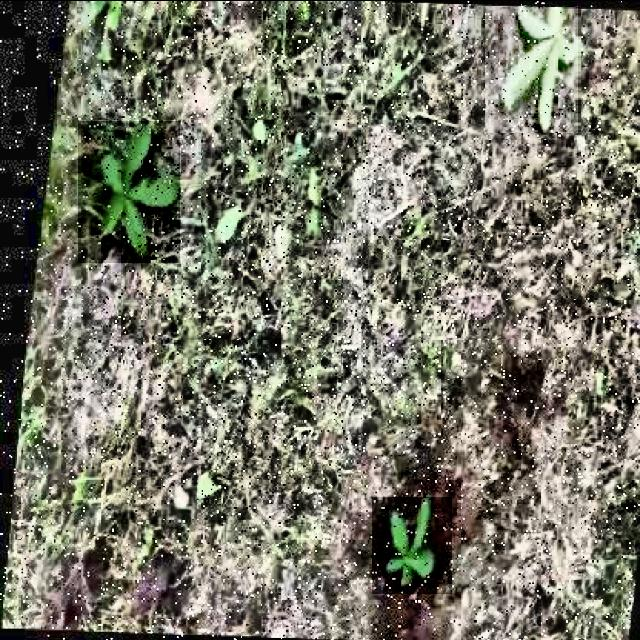Weeds: (78, 120, 180, 262), (486, 5, 580, 132), (372, 496, 452, 593)
